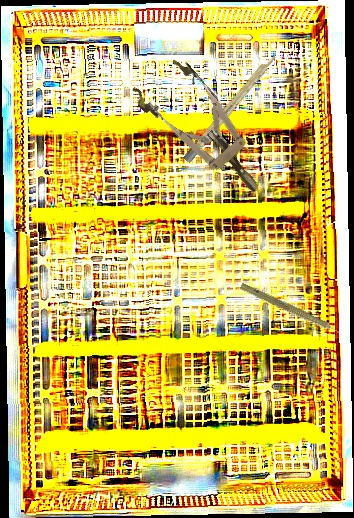Handpiece: (237, 281, 349, 342)
Scalpel Handle: (182, 49, 281, 164)
Speculum: (127, 50, 281, 213)
